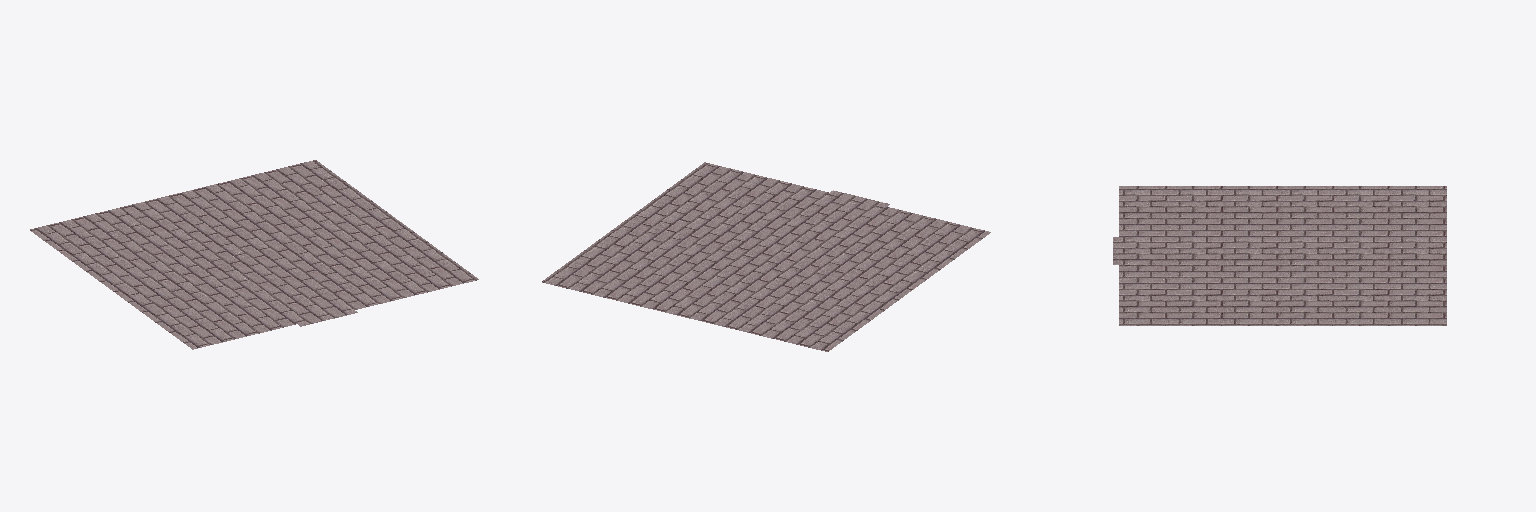
The picture shows the model from 3 angles: view 1: azimuth 30°, elevation 25°; view 2: azimuth 150°, elevation 25°; view 3: azimuth 270°, elevation 25°; orthographic projection.
Visible parts, largest first — view 1: SketchUp.001; view 2: SketchUp.001; view 3: SketchUp.001.
Part boxes in pixels (x1,y1,x2,y2): SketchUp.001: (30, 160, 478, 349); SketchUp.001: (542, 162, 990, 351); SketchUp.001: (1113, 186, 1446, 325).
Bounding box in the file's own units: 2.42 × 0 × 2.44.
1 materials, 1 textured.